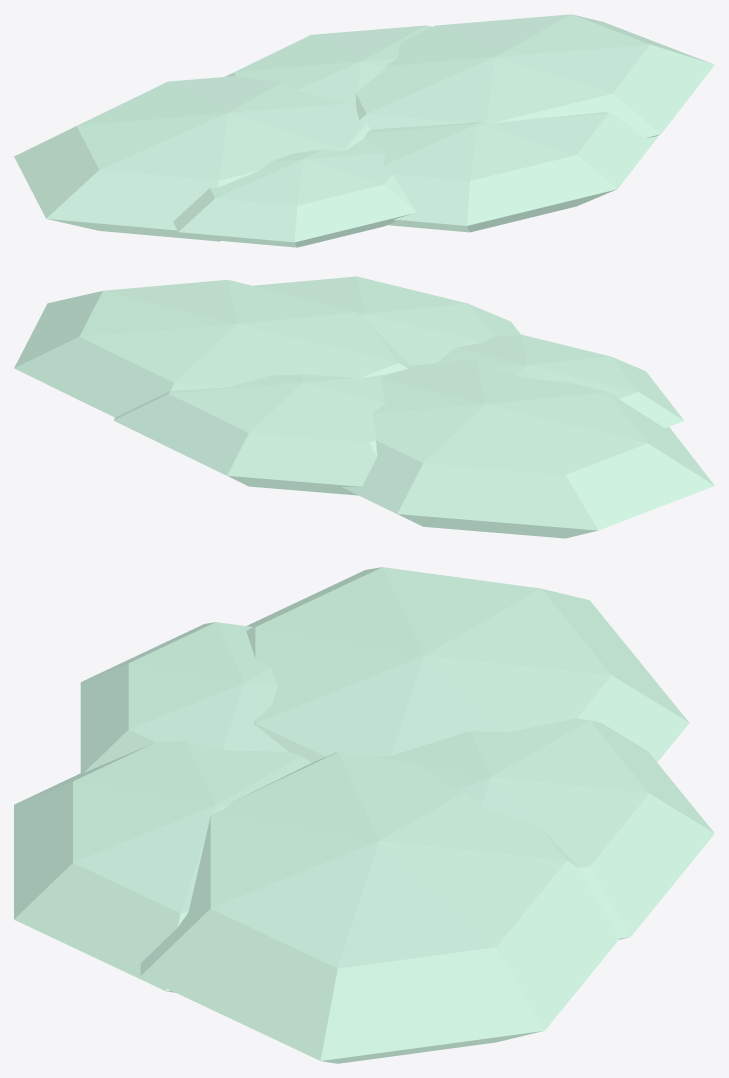
File: prop_mist_bank.glb
3 renders of one model, top to bottom at view 1: azimuth 30°, elevation 25°; view 2: azimuth 150°, elevation 25°; view 3: azimuth 270°, elevation 25°, orthographic. The views are drawn at different scales.
Parts seen in each view (by area): view 1: prop_mist_bank; view 2: prop_mist_bank; view 3: prop_mist_bank.
Boxes of the visible parts, bbox=[...] form: prop_mist_bank: bbox=[14, 14, 714, 247]; prop_mist_bank: bbox=[14, 276, 714, 538]; prop_mist_bank: bbox=[14, 567, 714, 1063].
Size of the model in its own units: 7.12 by 0.946 by 4.23.
